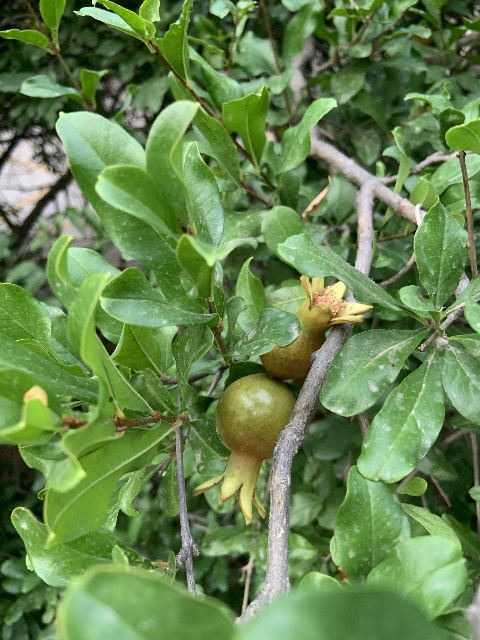early-fruit: (260, 274, 371, 378)
mid-growth: (192, 373, 294, 524)
